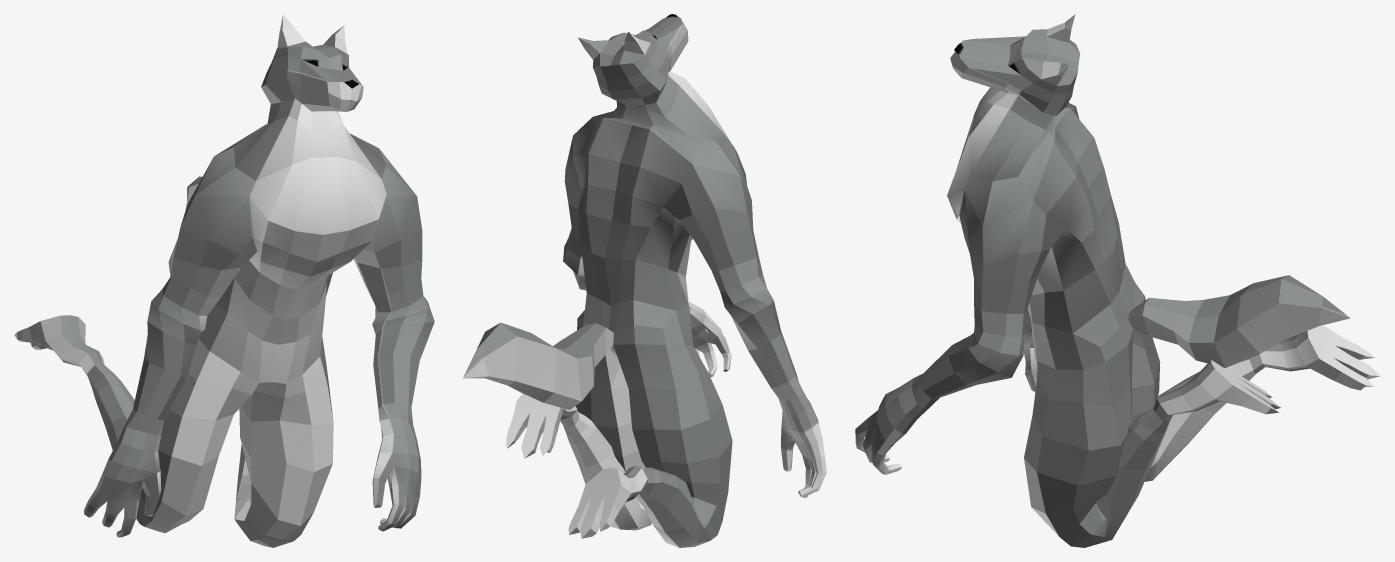
Rendered from WolfDead(50).obj.
3 views of the same model, side by side, from view 1: azimuth 30°, elevation 25°; view 2: azimuth 150°, elevation 25°; view 3: azimuth 270°, elevation 25° (orthographic). The views are drawn at different scales.
Parts seen in each view (by area): view 1: Box001; view 2: Box001; view 3: Box001.
Boxes of the visible parts, x1=… form: Box001: x1=14, y1=14, x2=434, y2=547; Box001: x1=463, y1=14, x2=826, y2=547; Box001: x1=855, y1=14, x2=1380, y2=547.
Size of the model in its own units: 74.06 by 121 by 108.
